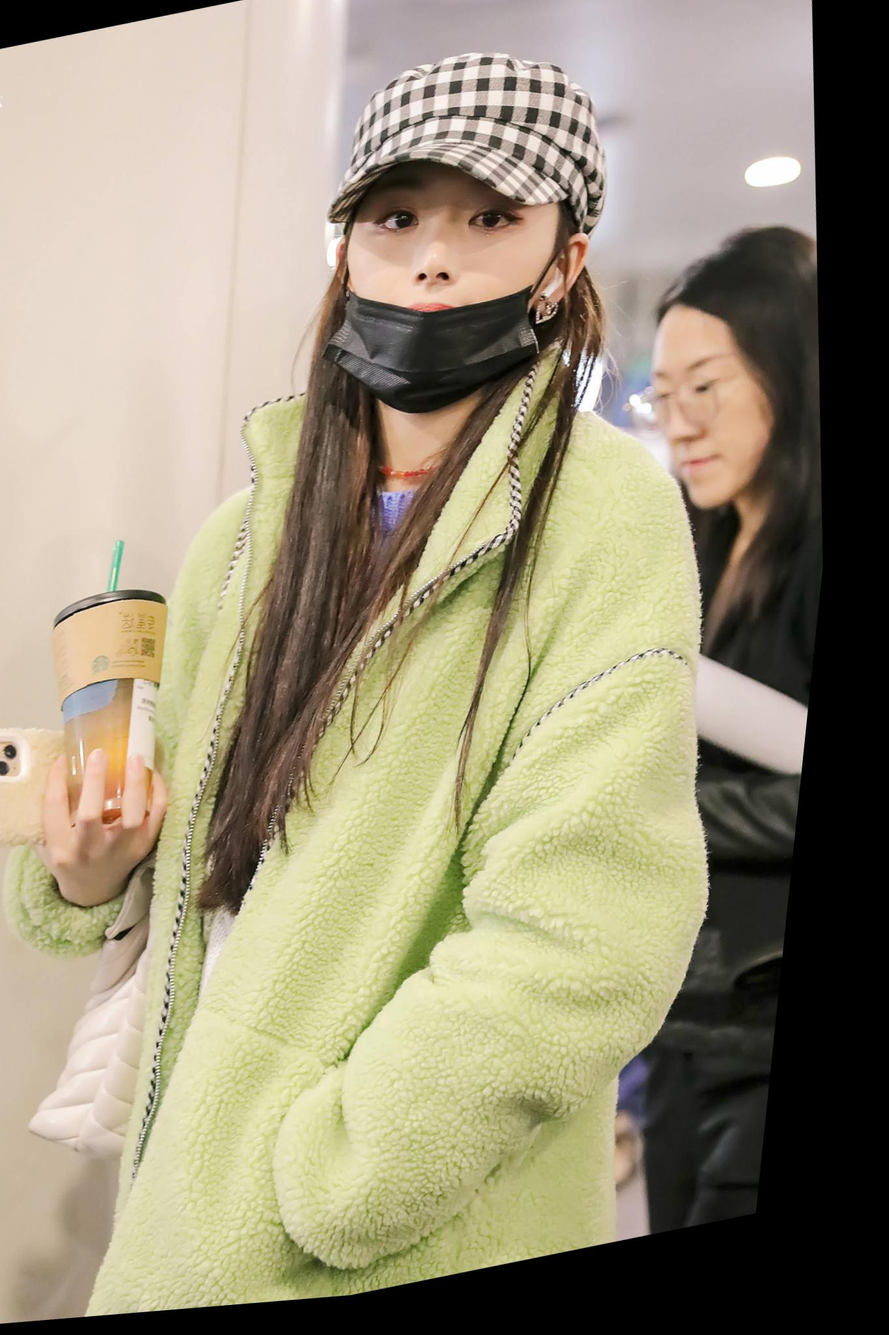NONE: (645, 333, 800, 533)
WRONG: (334, 147, 593, 427)
